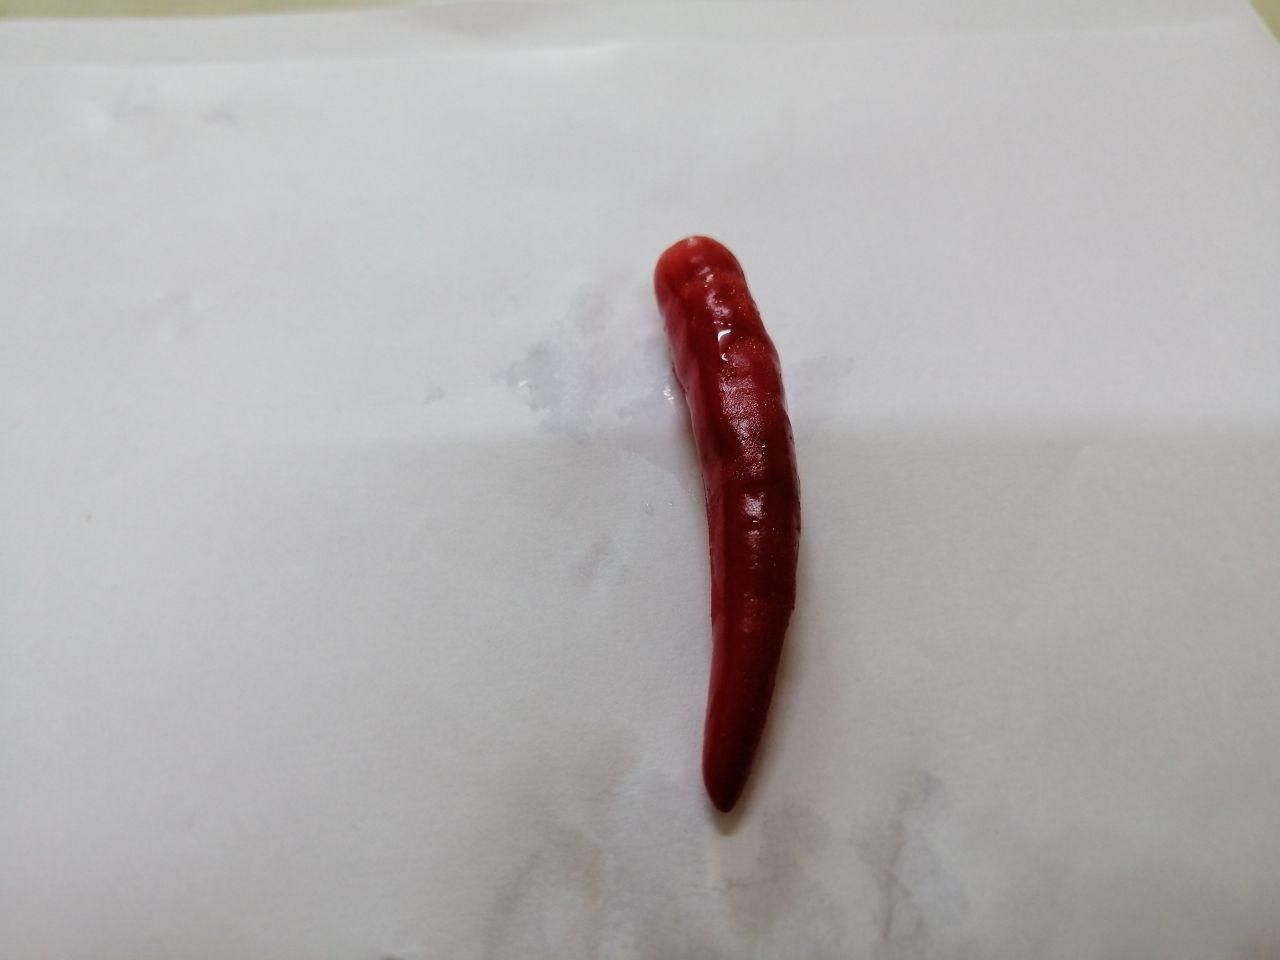lada merah: (628, 219, 827, 830)
